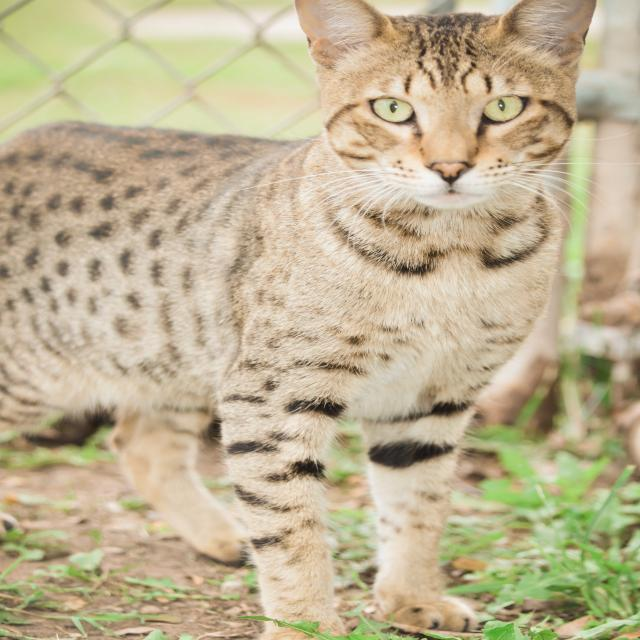Savannah: (0, 0, 604, 640)
